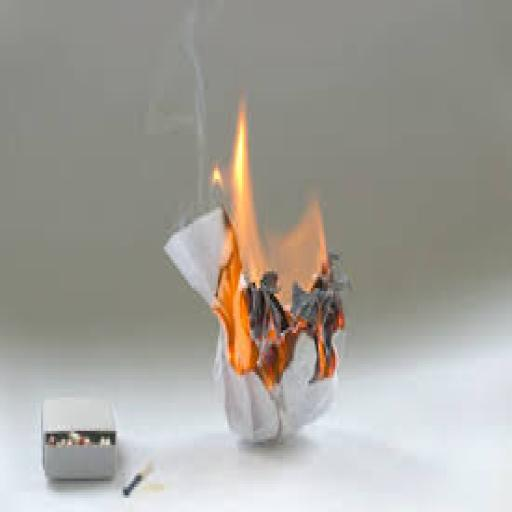fire: (210, 92, 350, 389)
